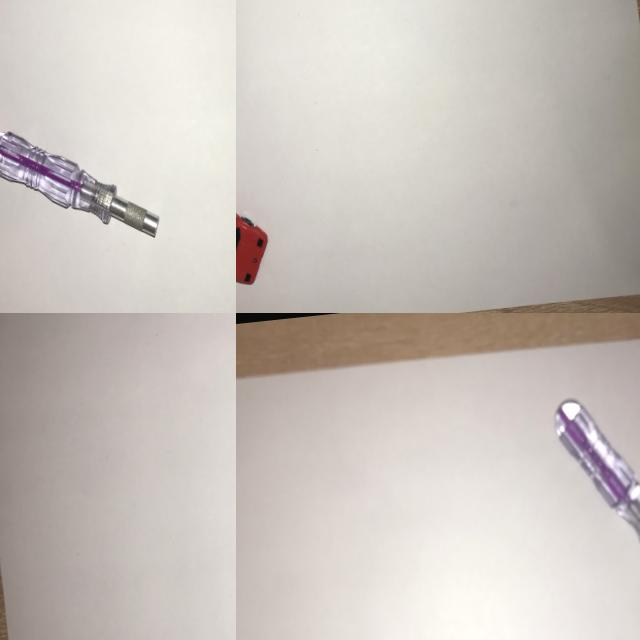car: (236, 158, 278, 300)
screwdriver: (0, 110, 166, 257), (544, 377, 640, 599)
